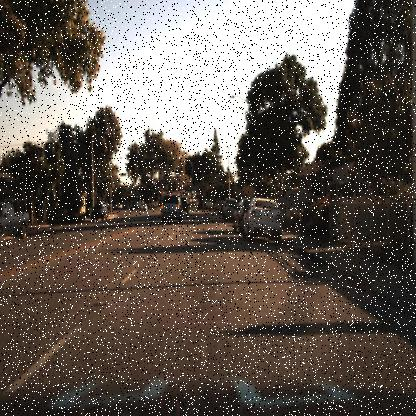car: (239, 194, 285, 242), (274, 182, 326, 212), (0, 202, 30, 242), (231, 196, 251, 237), (159, 191, 183, 222), (89, 198, 109, 224), (198, 195, 214, 216)
